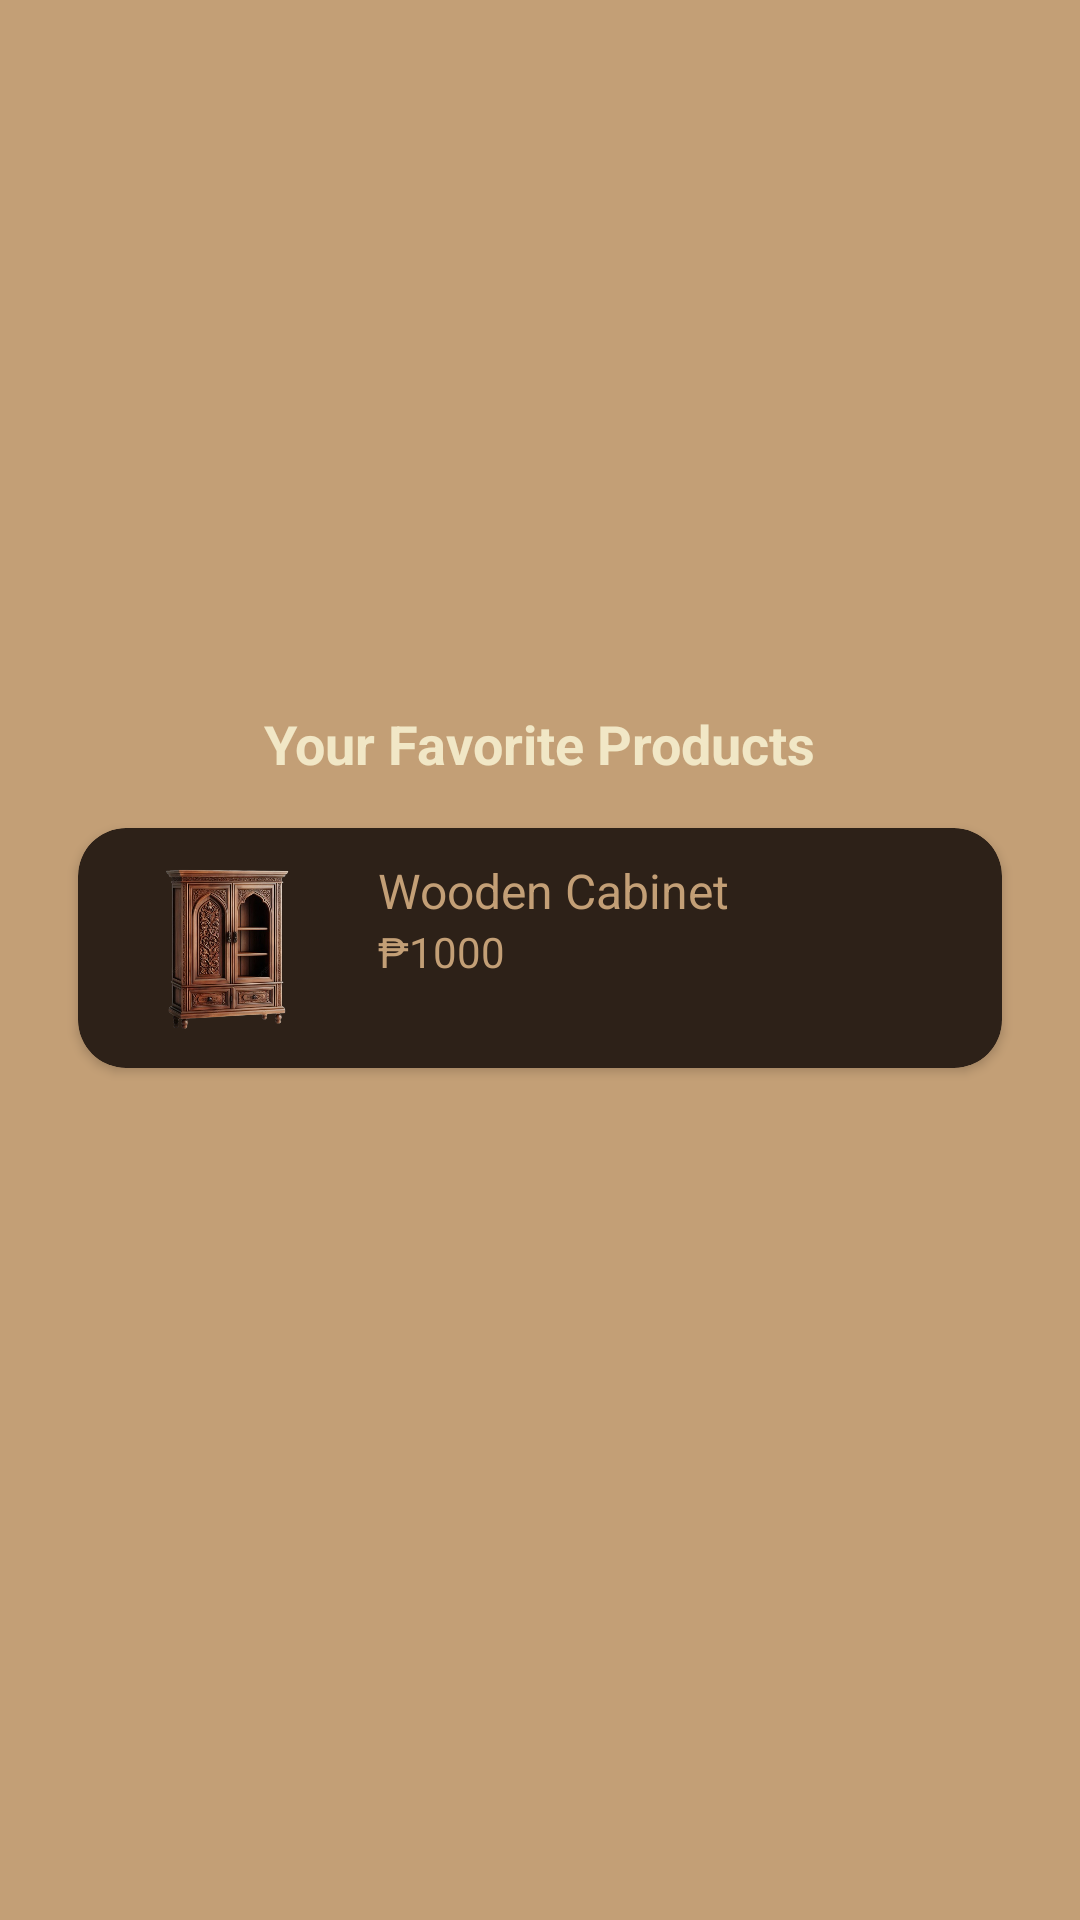

Screen size 1080x1920. Icon name, then its center in pixels as [x,y]:
Product Image: [227,949]
